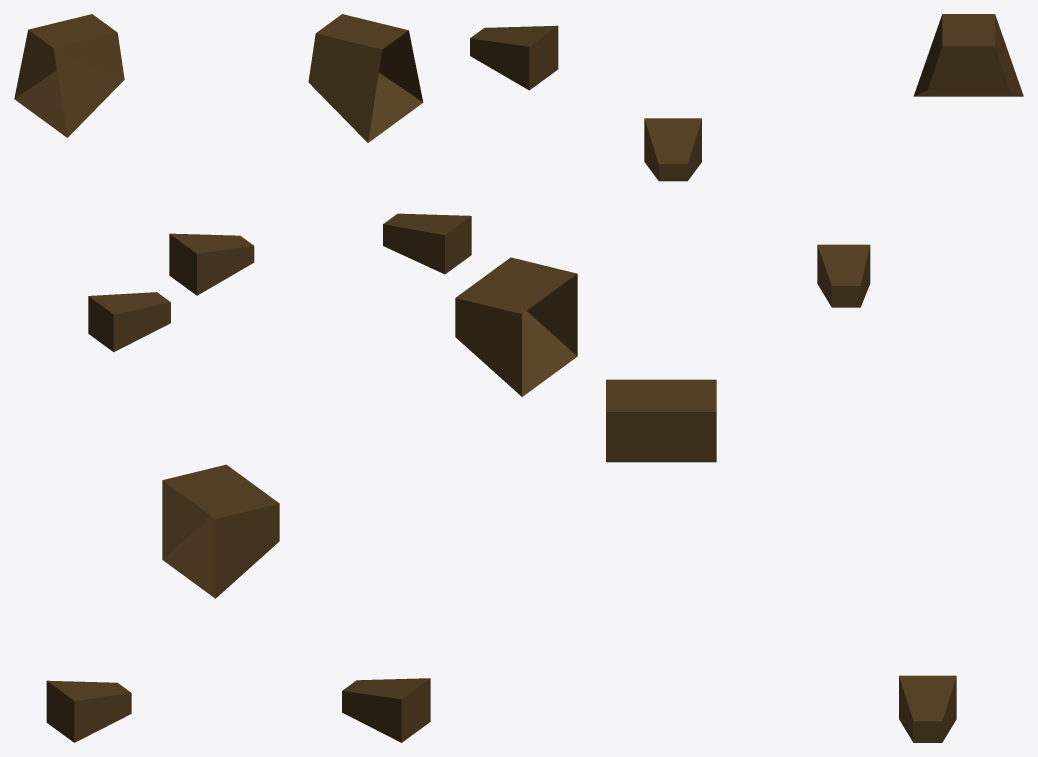
File: obj_climbing_rocks_5_0.obj
3 views of the same model, side by side, from view 1: azimuth 30°, elevation 25°; view 2: azimuth 150°, elevation 25°; view 3: azimuth 270°, elevation 25° (orthographic). The views are drawn at different scales.
Bounding box in the file's own units: 0.125 × 1.27 × 0.6797.
